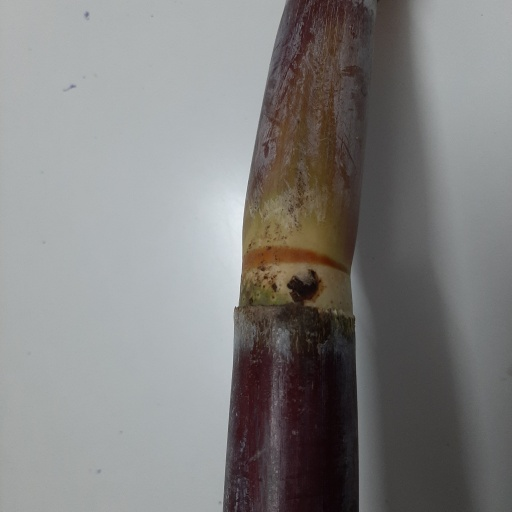Damage_Bud: (287, 268, 322, 305)
